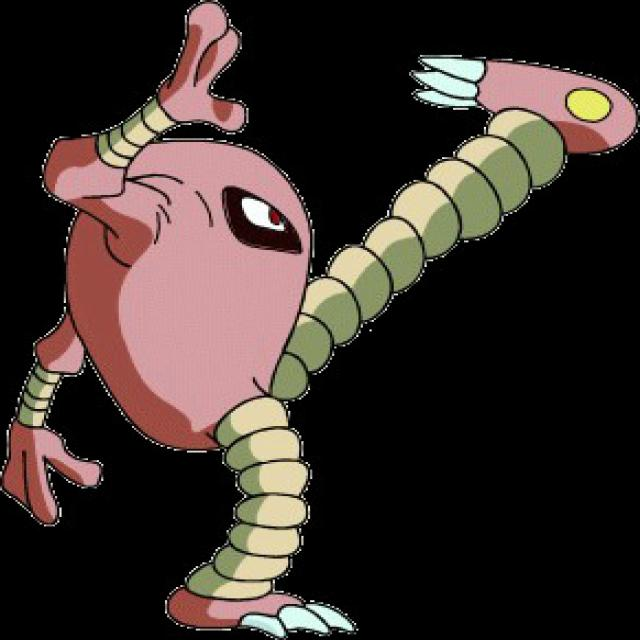Hitmonlee: (7, 11, 443, 625)
